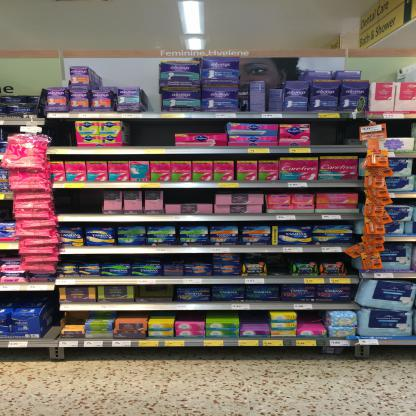Void: (124, 119, 172, 145), (95, 68, 157, 88), (53, 188, 102, 213), (312, 120, 360, 145), (0, 293, 56, 307), (47, 120, 76, 146), (139, 86, 162, 113), (168, 190, 213, 202), (270, 255, 291, 275), (386, 121, 412, 136), (244, 311, 266, 325), (1, 199, 12, 223), (300, 313, 322, 325)
